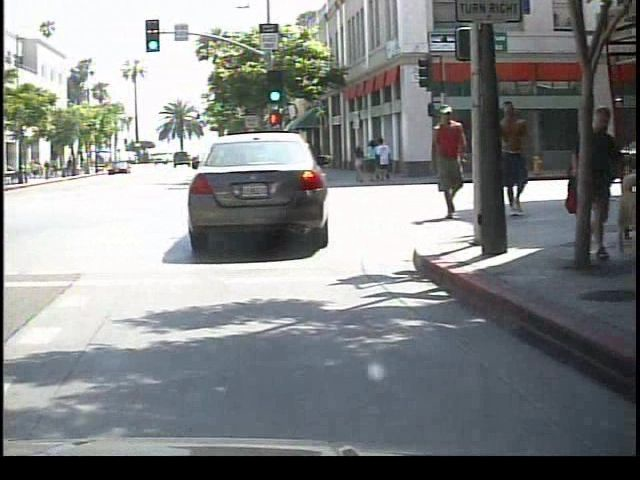person: (423, 101, 468, 223), (495, 97, 538, 223)
